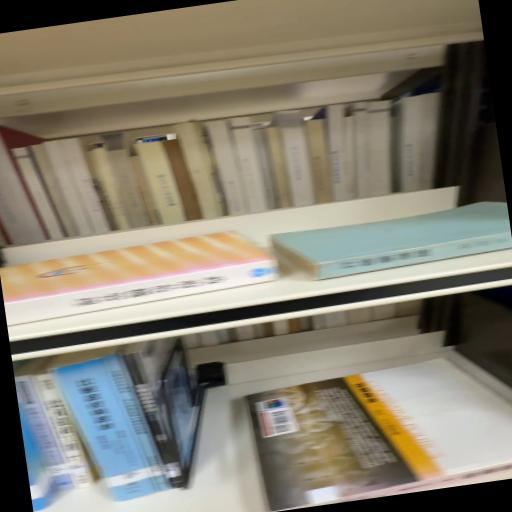flat: (246, 360, 512, 512), (1, 232, 279, 327), (272, 203, 512, 281)
